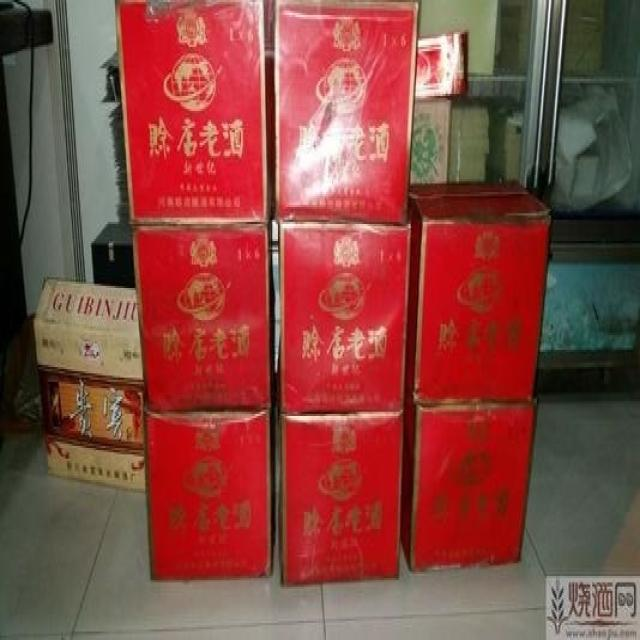box: (115, 0, 271, 224), (404, 179, 553, 405), (274, 0, 422, 224), (131, 218, 274, 410), (145, 378, 276, 580), (400, 384, 539, 572), (277, 218, 411, 412), (279, 407, 403, 582)
